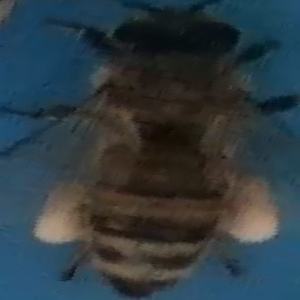bee: (10, 4, 287, 297)
